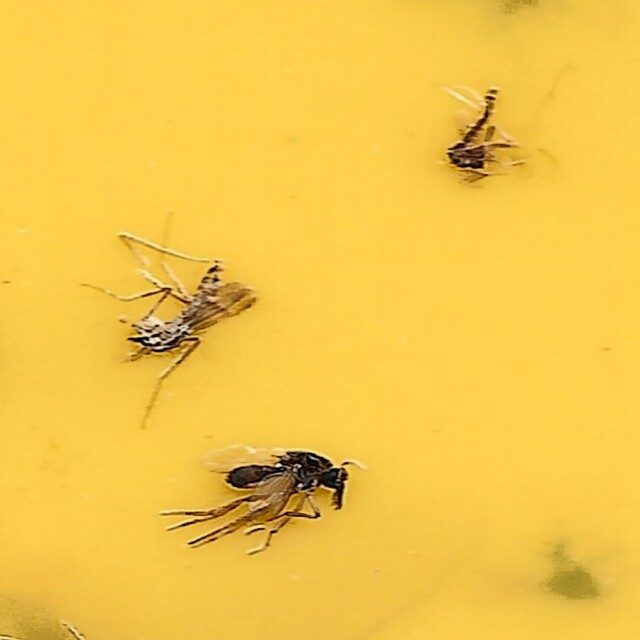Brachycera: (161, 445, 356, 552)
Nematocera: (124, 258, 259, 357), (440, 88, 516, 181)
